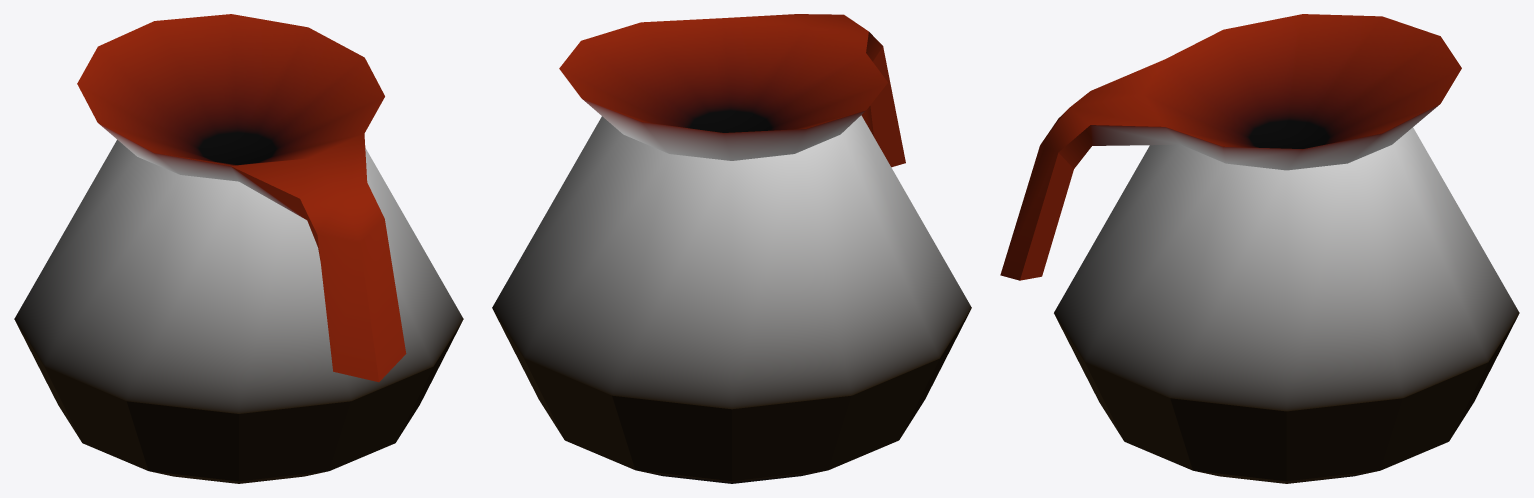
File: coffeePot.fbx
3 views of the same model, side by side, from view 1: azimuth 30°, elevation 25°; view 2: azimuth 150°, elevation 25°; view 3: azimuth 270°, elevation 25° (orthographic). The views are drawn at different scales.
Parts seen in each view (by area): view 1: pCylinder2; view 2: pCylinder2; view 3: pCylinder2.
Part boxes in pixels (box(x1,y1,x2,y2)): pCylinder2: box(14, 14, 463, 483); pCylinder2: box(492, 14, 971, 483); pCylinder2: box(1000, 14, 1519, 483).
Bounding box in the file's own units: 6.04 × 5.13 × 6.74.
